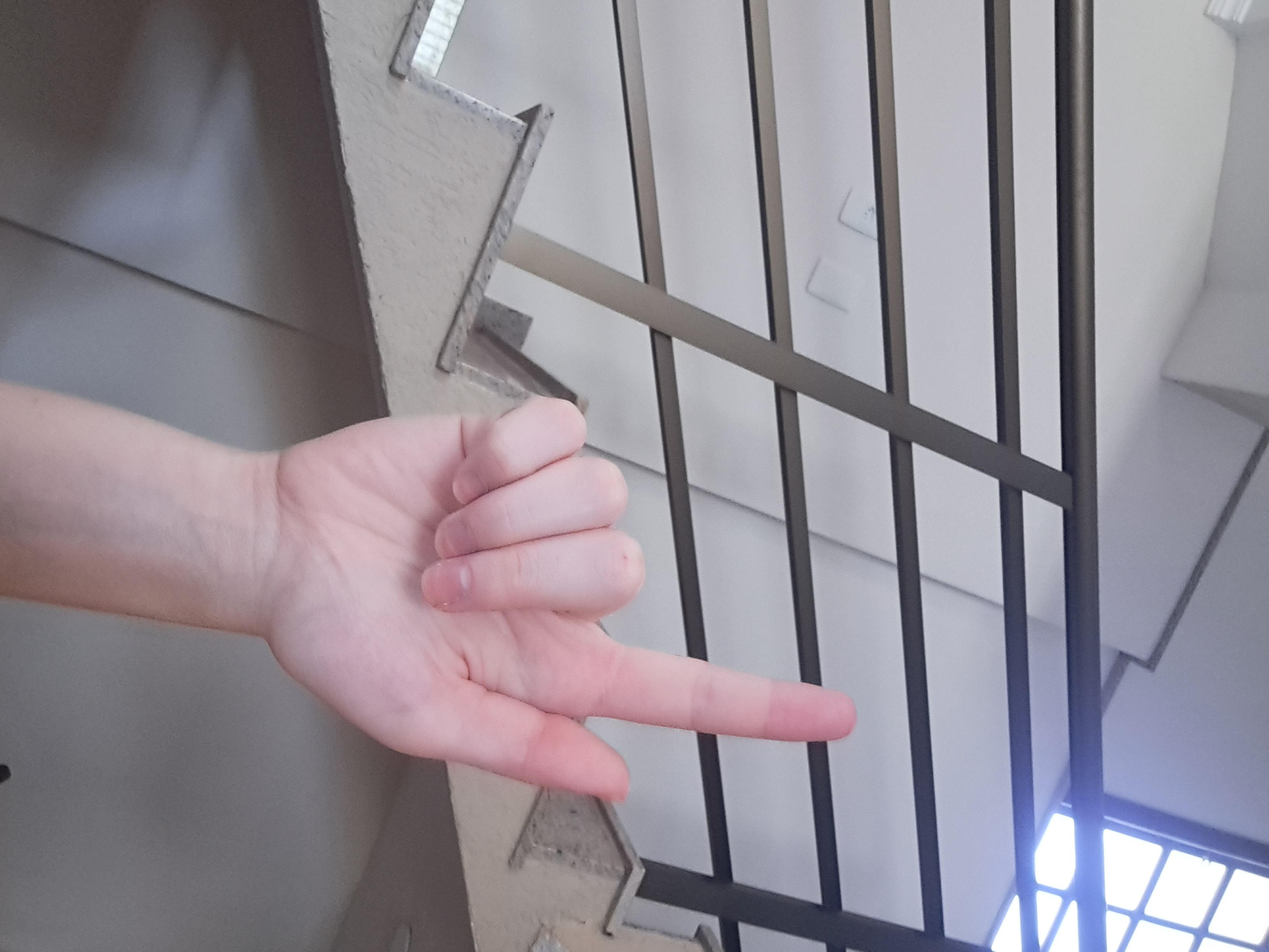G: (508, 300, 1083, 747)
